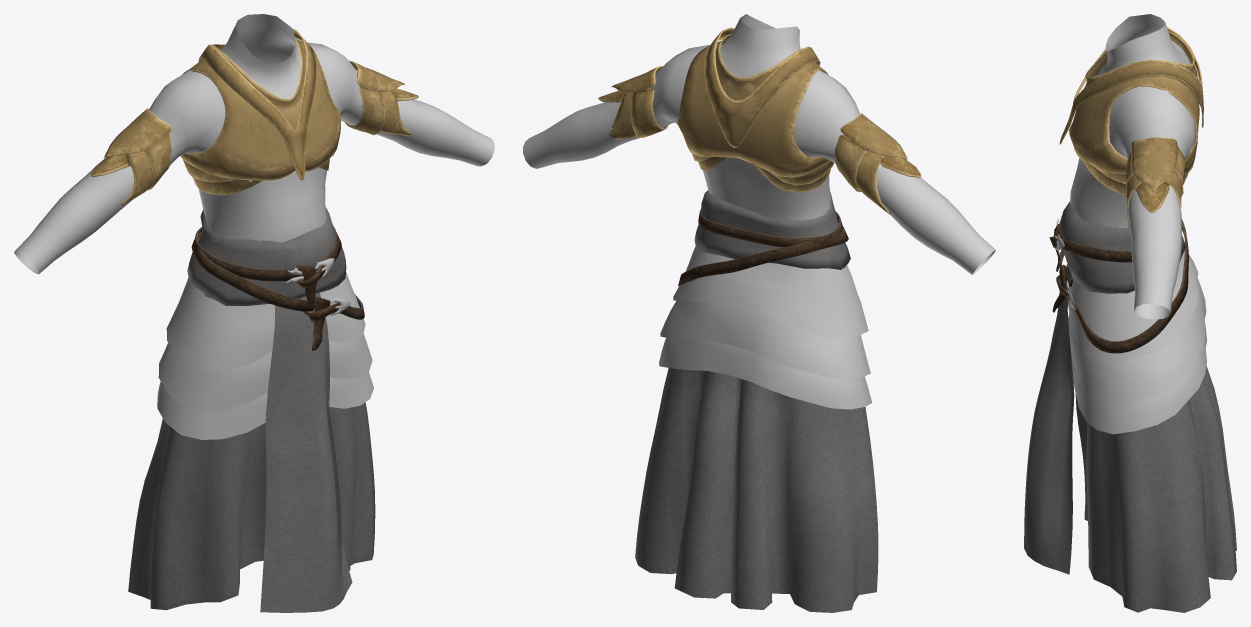
The model's file is rivendell_torso_scalemail_tier3.fbx.
3 renders of one model, left to right at view 1: azimuth 30°, elevation 25°; view 2: azimuth 150°, elevation 25°; view 3: azimuth 270°, elevation 25°, orthographic. The views are drawn at different scales.
Visible parts, largest first — view 1: rivendell_torso_scalemail_tier3.3, rivendell_torso_scalemail_tier3.4, rivendell_torso_scalemail_tier3.1, rivendell_torso_scalemail_tier3.2, rivendell_torso_scalemail_tier3.0; view 2: rivendell_torso_scalemail_tier3.1, rivendell_torso_scalemail_tier3.3, rivendell_torso_scalemail_tier3.2, rivendell_torso_scalemail_tier3.4, rivendell_torso_scalemail_tier3.0; view 3: rivendell_torso_scalemail_tier3.3, rivendell_torso_scalemail_tier3.1, rivendell_torso_scalemail_tier3.4, rivendell_torso_scalemail_tier3.2, rivendell_torso_scalemail_tier3.0.
Boxes of the visible parts, x1,y1,x2,y2 form: rivendell_torso_scalemail_tier3.3: (14,14,494,439); rivendell_torso_scalemail_tier3.4: (187,207,364,612); rivendell_torso_scalemail_tier3.1: (128,293,375,610); rivendell_torso_scalemail_tier3.2: (181,29,340,195); rivendell_torso_scalemail_tier3.0: (91,60,418,206); rivendell_torso_scalemail_tier3.1: (635,266,878,612); rivendell_torso_scalemail_tier3.3: (523,14,995,409); rivendell_torso_scalemail_tier3.2: (677,27,834,192); rivendell_torso_scalemail_tier3.4: (678,190,850,285); rivendell_torso_scalemail_tier3.0: (598,66,921,214); rivendell_torso_scalemail_tier3.3: (1068,14,1206,434); rivendell_torso_scalemail_tier3.1: (1075,366,1236,612); rivendell_torso_scalemail_tier3.4: (1024,201,1188,574); rivendell_torso_scalemail_tier3.2: (1059,27,1203,194); rivendell_torso_scalemail_tier3.0: (1124,137,1185,228).
Size of the model in its own units: 1.27 by 0.5129 by 1.44.
